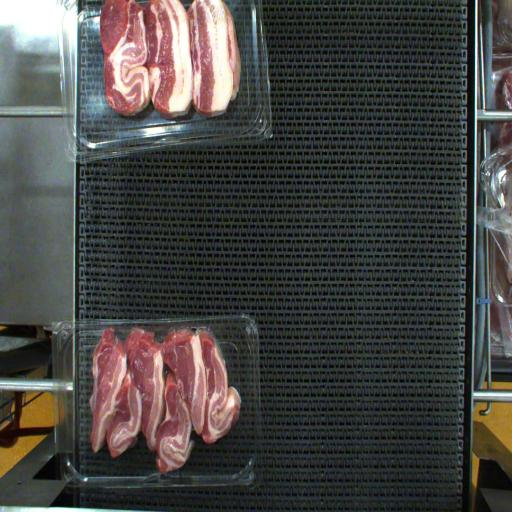packaging-error: (76, 316, 230, 353)
